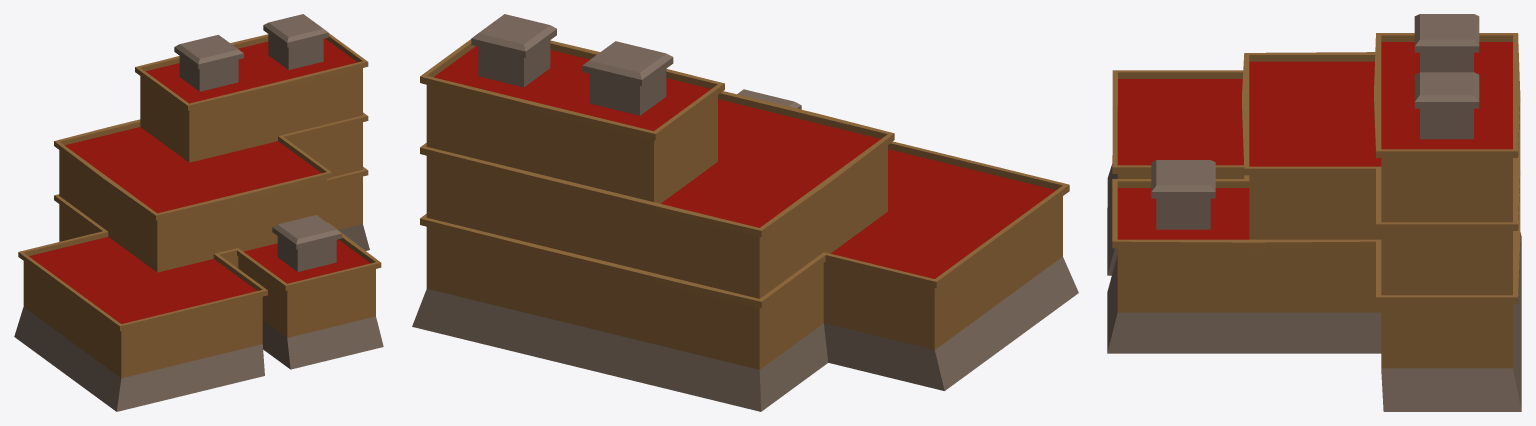
File: house [5].FBX
3 views of the same model, side by side, from view 1: azimuth 30°, elevation 25°; view 2: azimuth 150°, elevation 25°; view 3: azimuth 270°, elevation 25° (orthographic). The views are drawn at different scales.
Visible parts, largest first — view 1: Plane001; view 2: Plane001; view 3: Plane001.
Boxes of the visible parts, box(x1,y1,x2,y2) form: Plane001: box(14, 14, 383, 411); Plane001: box(412, 14, 1078, 411); Plane001: box(1107, 14, 1521, 411).
Bounding box in the file's own units: 149 × 87.58 × 111.
1 material, 1 textured.
